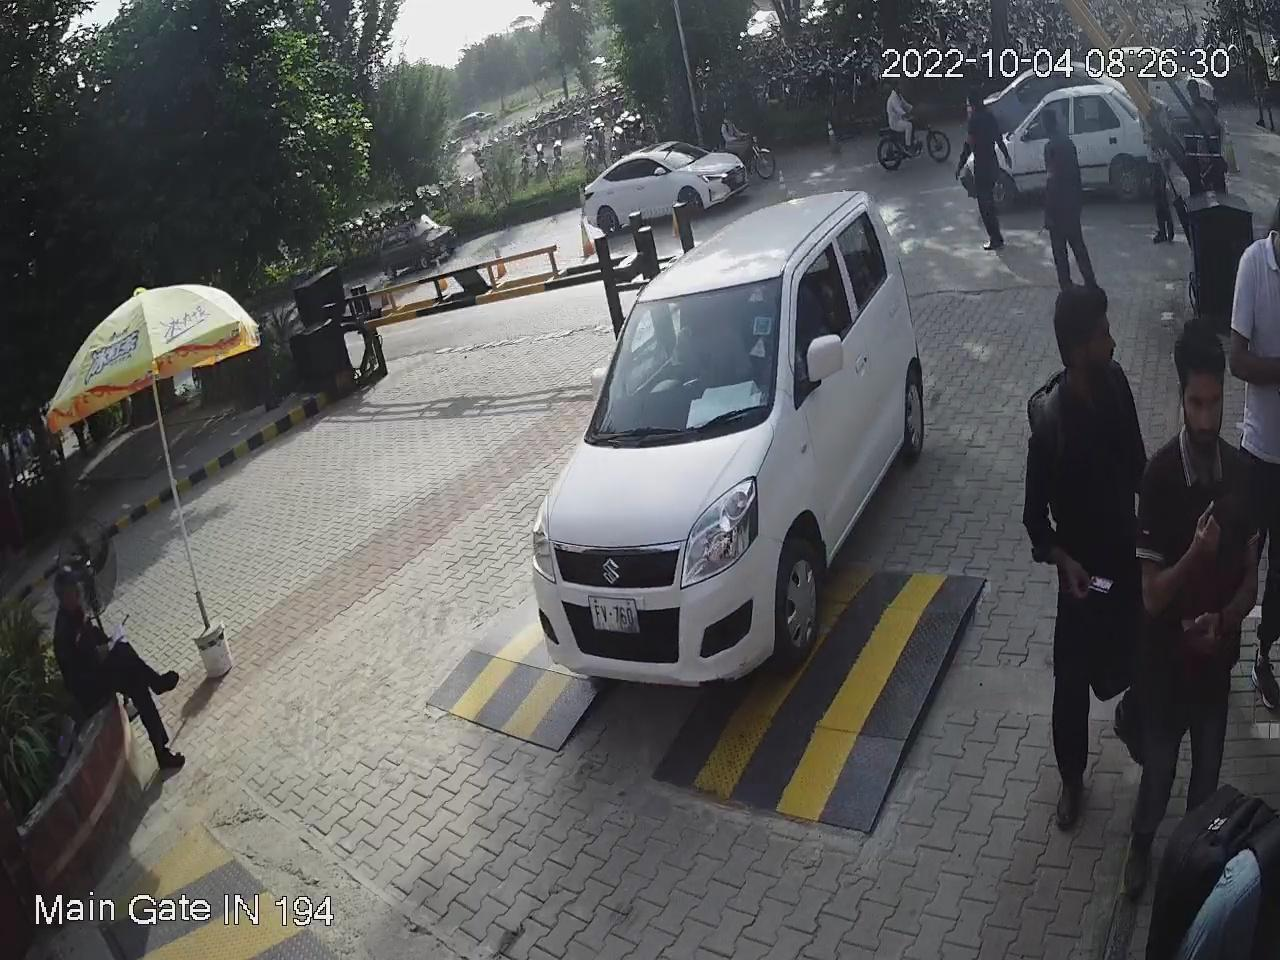windshield: (581, 272, 783, 443)
